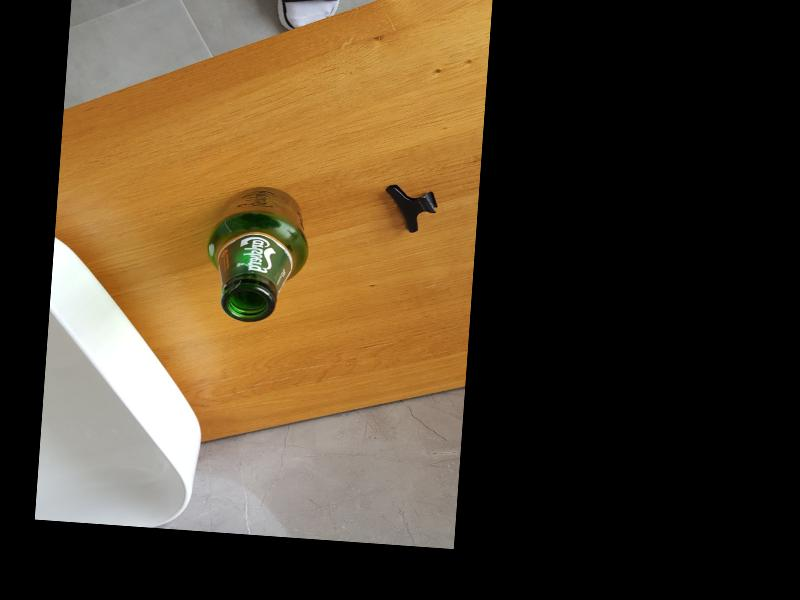Beer: (201, 183, 312, 324)
